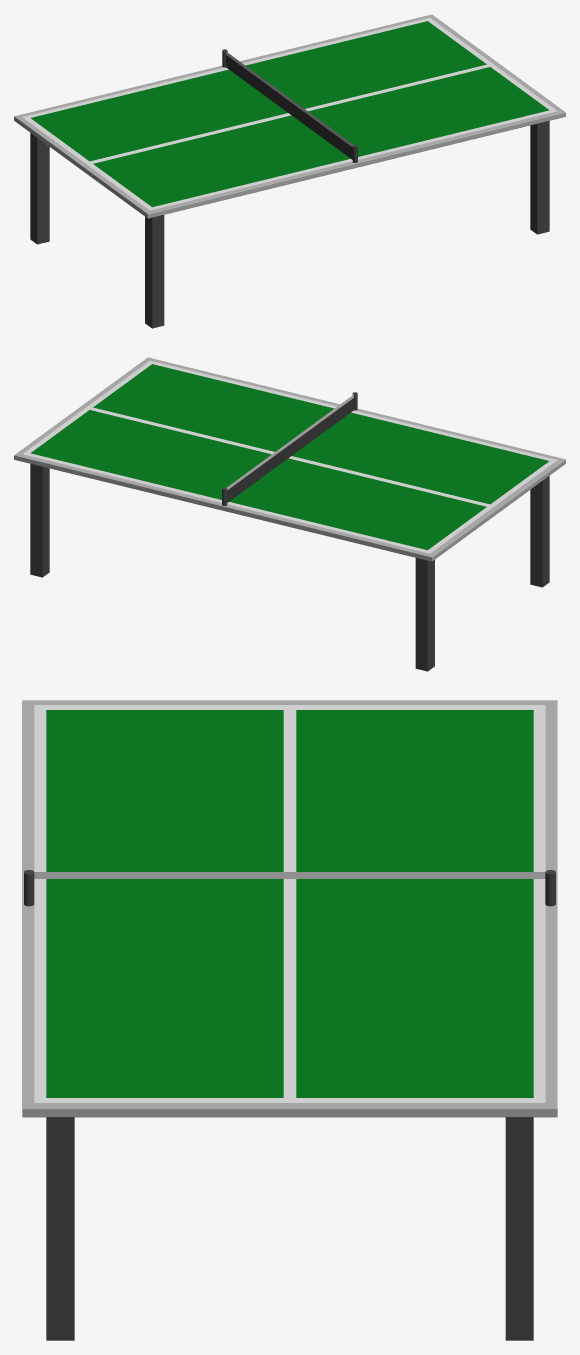
File: table.fbx
The picture shows the model from 3 angles, top to bottom: view 1: azimuth 30°, elevation 25°; view 2: azimuth 150°, elevation 25°; view 3: azimuth 270°, elevation 25°; orthographic projection. The views are drawn at different scales.
Parts seen in each view (by area): view 1: Box001, Box005, Box004, Plane001, Box002; view 2: Box001, Box002, Box003, Plane001, Box005; view 3: Box001, Box004, Box003, Plane001.
Part boxes in pixels (bbox=[...]): Box001: bbox=[14, 14, 565, 218]; Box005: bbox=[145, 215, 164, 328]; Box004: bbox=[530, 121, 549, 234]; Plane001: bbox=[226, 51, 353, 159]; Box002: bbox=[30, 133, 49, 244]; Box001: bbox=[14, 357, 565, 561]; Box002: bbox=[415, 558, 434, 671]; Box003: bbox=[30, 464, 49, 577]; Plane001: bbox=[226, 394, 353, 502]; Box005: bbox=[530, 476, 549, 587]; Box001: bbox=[22, 700, 557, 1117]; Box004: bbox=[46, 1117, 74, 1340]; Box003: bbox=[505, 1117, 533, 1340]; Plane001: bbox=[34, 872, 545, 878].
Bounding box in the file's own units: 2.74 × 0.8599 × 1.52.
